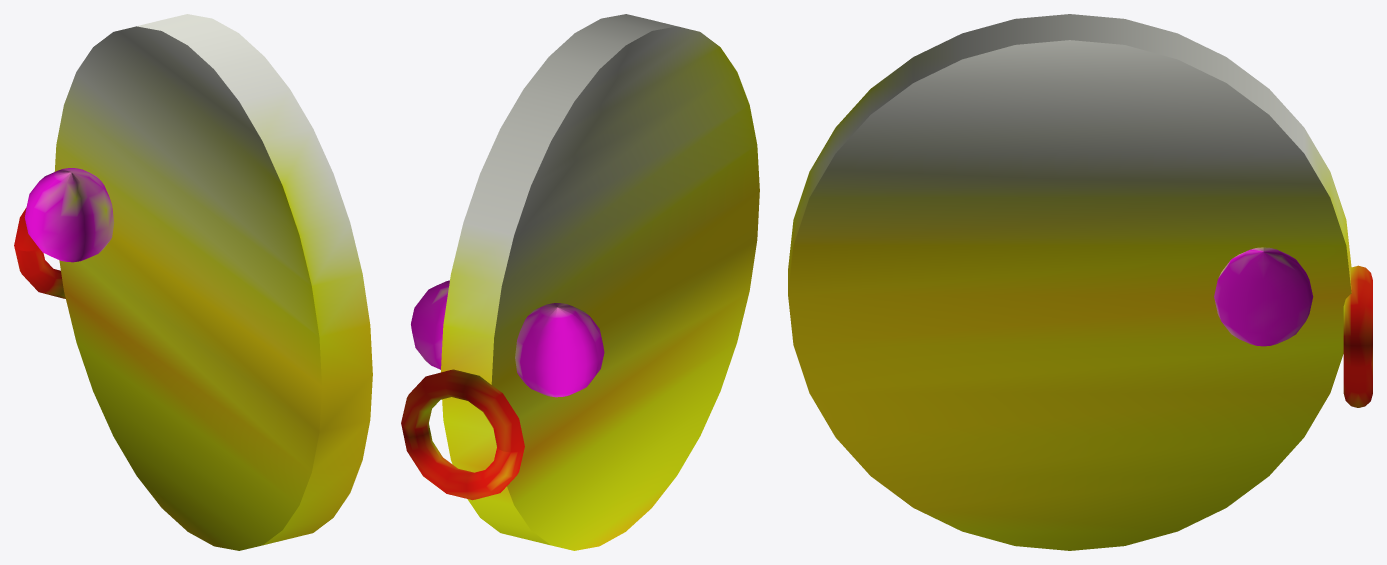
The model's file is coiny.glb.
3 renders of one model, left to right at view 1: azimuth 30°, elevation 25°; view 2: azimuth 150°, elevation 25°; view 3: azimuth 270°, elevation 25°, orthographic. The views are drawn at different scales.
Visible parts, largest first — view 1: Coin; view 2: Coin; view 3: Coin.
Boxes of the visible parts, <box> form: Coin: <box>14,14,372,550</box>; Coin: <box>401,14,759,550</box>; Coin: <box>788,14,1372,550</box>.
Bounding box in the file's own units: 0.3296 × 0.8427 × 0.8742.
